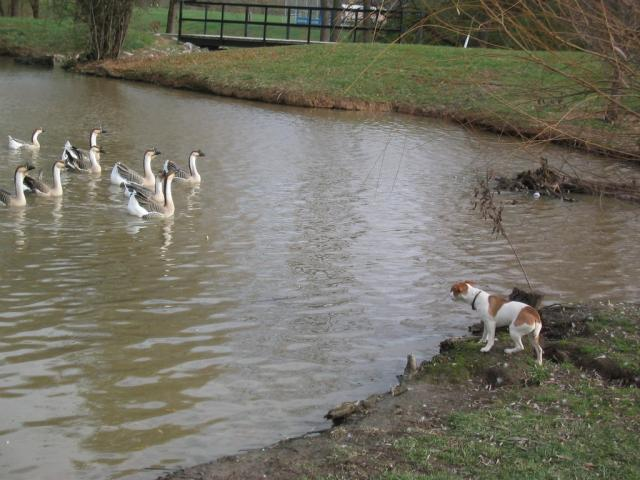Dog: (450, 279, 544, 368)
